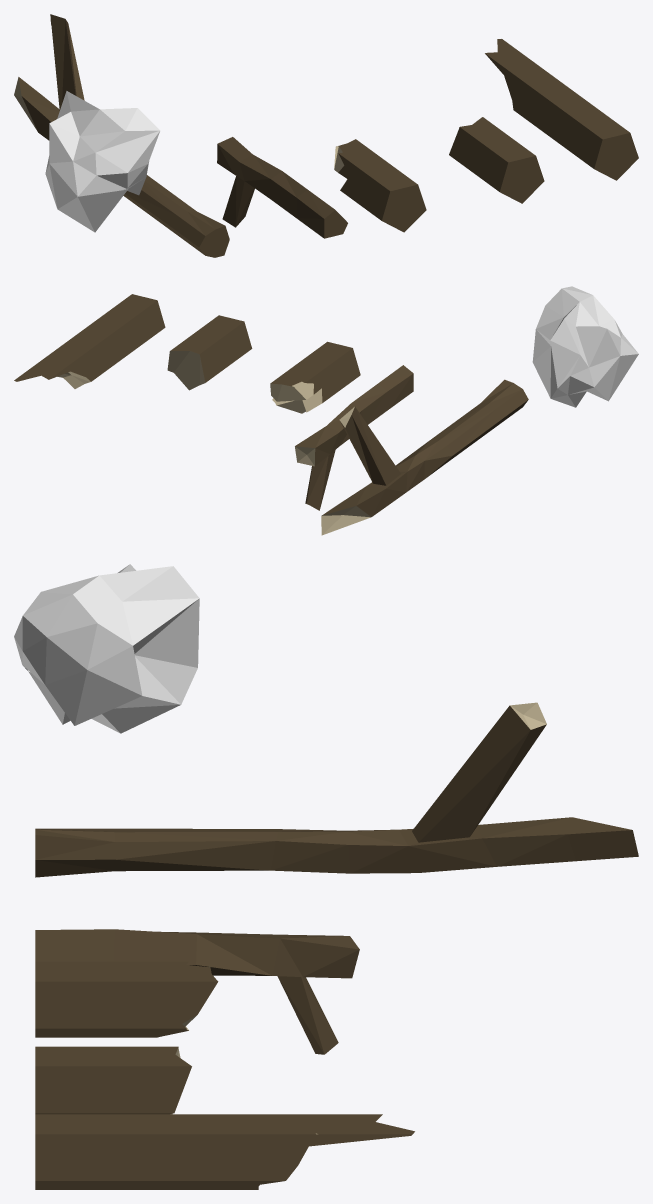
Rendered from Dead Trees.fbx.
3 views of the same model, one above another, from view 1: azimuth 30°, elevation 25°; view 2: azimuth 150°, elevation 25°; view 3: azimuth 270°, elevation 25° (orthographic). The views are drawn at different scales.
Visible parts, largest first — view 1: Icosphere, Stump 1, Stump 5, Stump 4, Stump 2, Stump 3; view 2: Icosphere, Stump 5, Stump 1, Stump 4, Stump 2, Stump 3; view 3: Stump 5, Icosphere, Stump 1, Stump 4, Stump 2, Stump 3.
Part boxes in pixels (x1,y1,x2,y2): Icosphere: [45, 91, 160, 232]; Stump 1: [485, 39, 638, 180]; Stump 5: [14, 14, 229, 257]; Stump 4: [217, 137, 347, 238]; Stump 2: [334, 139, 426, 232]; Stump 3: [449, 117, 544, 203]; Icosphere: [532, 286, 638, 407]; Stump 5: [321, 379, 528, 535]; Stump 1: [14, 294, 165, 388]; Stump 4: [295, 365, 413, 510]; Stump 2: [270, 341, 360, 413]; Stump 3: [167, 315, 252, 390]; Stump 5: [35, 702, 638, 877]; Icosphere: [14, 564, 199, 733]; Stump 1: [35, 1114, 414, 1189]; Stump 4: [35, 929, 359, 1054]; Stump 2: [35, 961, 218, 1037]; Stump 3: [35, 1046, 191, 1114].
Size of the model in its own units: 2393 by 913 by 1559.
